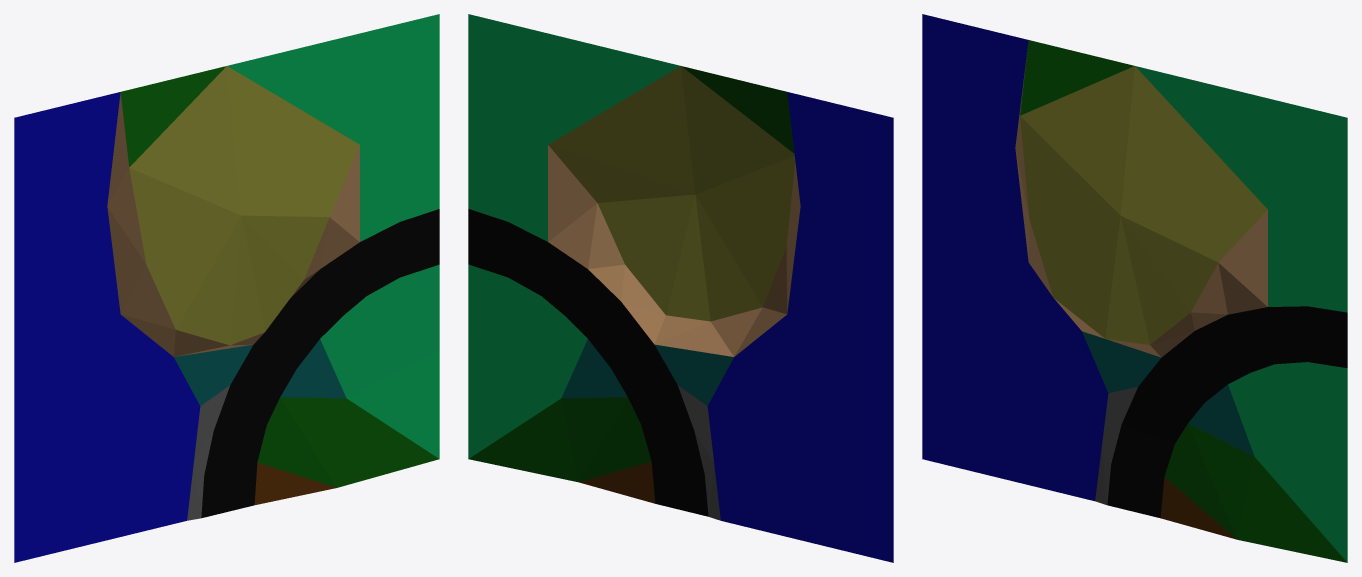
File: tiles3_28.obj
The picture shows the model from 3 angles, left to right: view 1: azimuth 30°, elevation 25°; view 2: azimuth 150°, elevation 25°; view 3: azimuth 330°, elevation 25°; orthographic projection.
Parts seen in each view (by area): view 1: tiles3_28; view 2: tiles3_28; view 3: tiles3_28.
Boxes of the visible parts, x1,y1,x2,y2 form: tiles3_28: [14, 14, 439, 562]; tiles3_28: [468, 14, 893, 562]; tiles3_28: [922, 14, 1347, 562].
Bounding box in the file's own units: 4.1 × 4.1 × 0.272.
